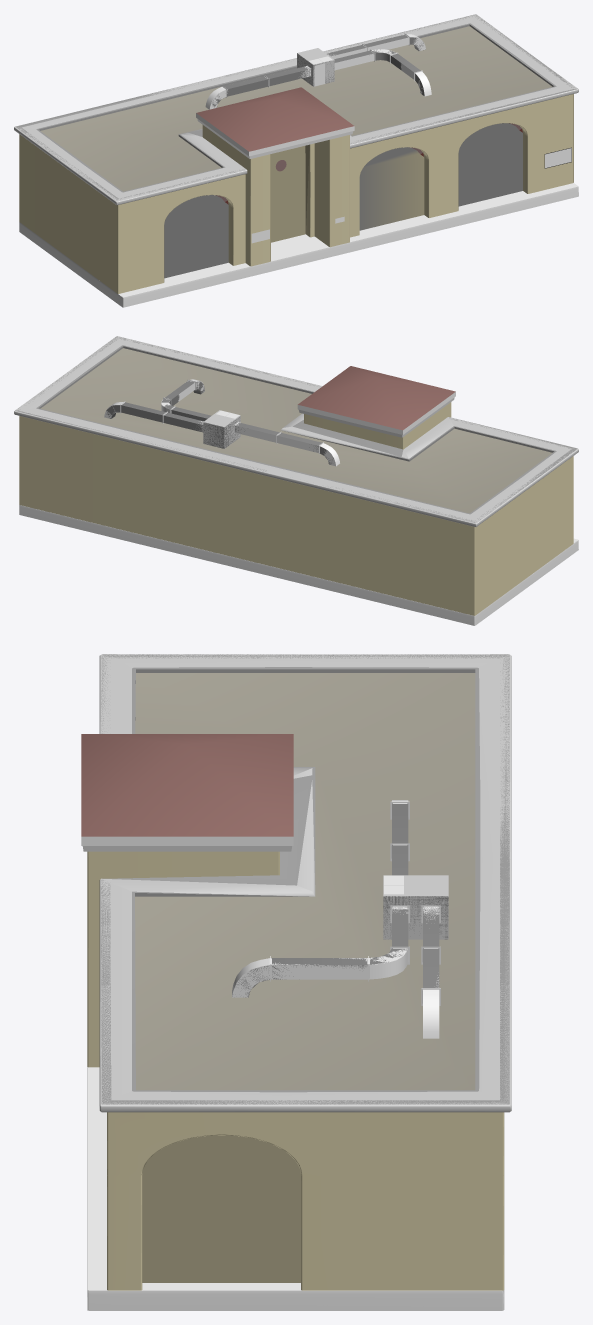
Rendered from s_movie_studio_visitor_center.dae.
3 views of the same model, one above another, from view 1: azimuth 30°, elevation 25°; view 2: azimuth 150°, elevation 25°; view 3: azimuth 270°, elevation 25° (orthographic). The views are drawn at different scales.
Parts seen in each view (by area): view 1: s_movie_studio_visitor_center_L600, Colmesh_s_movie_studio_visitor_center-1, s_movie_studio_visitor_center_L40, s_movie_studio_visitor_center_L100; view 2: s_movie_studio_visitor_center_L600, s_movie_studio_visitor_center_L40, Colmesh_s_movie_studio_visitor_center-1, s_movie_studio_visitor_center_L100; view 3: s_movie_studio_visitor_center_L40, s_movie_studio_visitor_center_L600, Colmesh_s_movie_studio_visitor_center-1, s_movie_studio_visitor_center_L100.
Part boxes in pixels (<box>): s_movie_studio_visitor_center_L600: <box>14,14,578,307</box>; Colmesh_s_movie_studio_visitor_center-1: <box>36,23,578,307</box>; s_movie_studio_visitor_center_L40: <box>15,15,577,222</box>; s_movie_studio_visitor_center_L100: <box>17,14,573,199</box>; s_movie_studio_visitor_center_L600: <box>14,336,578,625</box>; s_movie_studio_visitor_center_L40: <box>15,336,577,522</box>; Colmesh_s_movie_studio_visitor_center-1: <box>36,345,578,625</box>; s_movie_studio_visitor_center_L100: <box>16,337,575,522</box>; s_movie_studio_visitor_center_L40: <box>82,654,509,1174</box>; s_movie_studio_visitor_center_L600: <box>81,654,511,1310</box>; Colmesh_s_movie_studio_visitor_center-1: <box>81,667,503,1310</box>; s_movie_studio_visitor_center_L100: <box>103,654,509,1104</box>.
Size of the model in its own units: 24.1 by 9.71 by 7.31.
